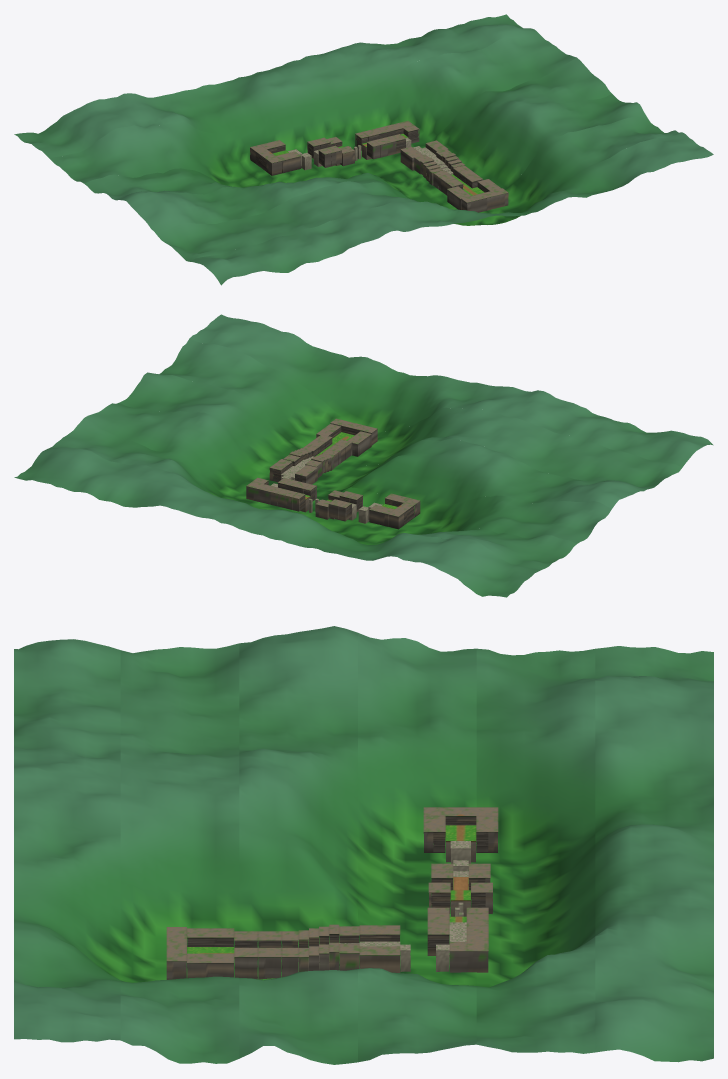
File: temple_of_echoes_terrain.glb
The picture shows the model from 3 angles, top to bottom: view 1: azimuth 30°, elevation 25°; view 2: azimuth 150°, elevation 25°; view 3: azimuth 270°, elevation 25°; orthographic projection. The views are drawn at different scales.
Visible parts, largest first — view 1: backdrop_4, backdrop_5, backdrop_1, backdrop_2, backdrop_0, backdrop_3, terrain_H, terrain_F, terrain_A, terrain_C, terrain_B, terrain_D (+1 smaller); view 2: backdrop_0, backdrop_2, backdrop_1, backdrop_5, backdrop_3, backdrop_4, terrain_H, terrain_F, terrain_A, terrain_B, terrain_D, terrain_C (+1 smaller); view 3: backdrop_5, backdrop_1, backdrop_4, backdrop_2, backdrop_0, backdrop_3, terrain_H, terrain_A, terrain_F, terrain_B, terrain_C, terrain_D (+2 smaller).
Boxes of the visible parts, left/top/right/bottom form: backdrop_4: left=49, top=36, right=576, bottom=187; backdrop_5: left=14, top=14, right=541, bottom=157; backdrop_1: left=155, top=117, right=681, bottom=261; backdrop_2: left=120, top=94, right=646, bottom=231; backdrop_0: left=190, top=132, right=713, bottom=285; backdrop_3: left=84, top=58, right=611, bottom=200; terrain_H: left=250, top=137, right=341, bottom=175; terrain_F: left=355, top=120, right=419, bottom=159; terrain_A: left=447, top=179, right=508, bottom=212; terrain_C: left=414, top=149, right=464, bottom=185; terrain_B: left=433, top=165, right=483, bottom=195; terrain_D: left=400, top=140, right=448, bottom=170; backdrop_0: left=190, top=314, right=713, bottom=467; backdrop_2: left=119, top=372, right=646, bottom=508; backdrop_1: left=159, top=338, right=681, bottom=489; backdrop_5: left=14, top=447, right=541, bottom=597; backdrop_3: left=84, top=402, right=611, bottom=543; backdrop_4: left=49, top=418, right=576, bottom=569; terrain_H: left=328, top=491, right=420, bottom=529; terrain_F: left=246, top=477, right=316, bottom=512; terrain_A: left=316, top=418, right=377, bottom=456; terrain_B: left=303, top=434, right=352, bottom=467; terrain_D: left=269, top=459, right=317, bottom=484; terrain_C: left=283, top=448, right=334, bottom=477; backdrop_5: left=595, top=646, right=713, bottom=1062; backdrop_1: left=120, top=643, right=239, bottom=1063; backdrop_4: left=476, top=648, right=595, bottom=1053; backdrop_2: left=239, top=626, right=357, bottom=1064; backdrop_0: left=14, top=639, right=120, bottom=1042; backdrop_3: left=358, top=633, right=476, bottom=1062; terrain_H: left=423, top=807, right=498, bottom=898; terrain_A: left=166, top=927, right=234, bottom=979; terrain_F: left=427, top=907, right=488, bottom=972; terrain_B: left=234, top=931, right=298, bottom=979; terrain_C: left=298, top=924, right=359, bottom=971; terrain_D: left=359, top=925, right=400, bottom=972.
Bounding box in the file's own units: 567 × 65.46 × 413.
